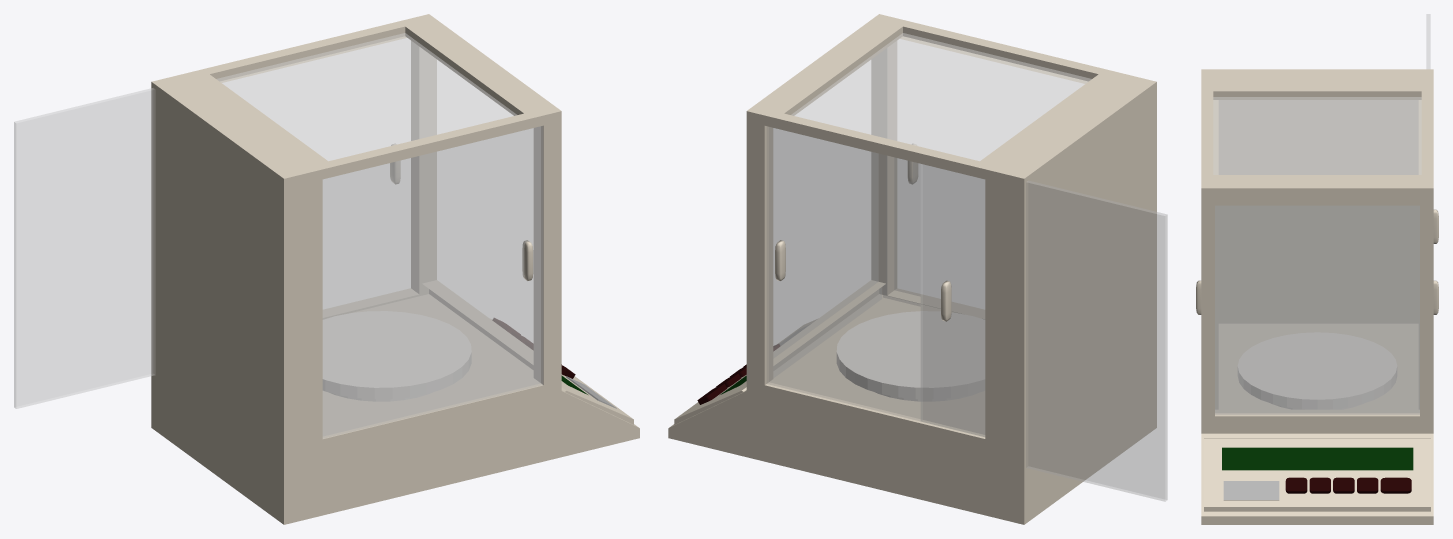
The model's file is balanceUpdated.gltf.
3 views of the same model, side by side, from view 1: azimuth 30°, elevation 25°; view 2: azimuth 150°, elevation 25°; view 3: azimuth 270°, elevation 25° (orthographic). The views are drawn at different scales.
Parts seen in each view (by area): view 1: balance, glassL, glassL.001, glassR.001, glassT.001, glassT.002, plate; view 2: balance, glassR.001, glassR, glassT.001, glassT.002, plate; view 3: balance, glassF.002, glassF.001, glassT.001, glassT.002, plate, screen, brand, button_tare, button_onoff, button_select, button_set (+1 smaller).
Part boxes in pixels (x1,y1,x2,y2): balance: [151, 14, 639, 524]; glassL: [323, 126, 542, 438]; glassL.001: [323, 126, 542, 437]; glassR.001: [14, 88, 155, 408]; glassT.001: [217, 33, 516, 160]; glassT.002: [217, 33, 515, 160]; plate: [323, 311, 471, 401]; balance: [668, 14, 1156, 524]; glassR.001: [921, 164, 1167, 501]; glassR: [767, 126, 984, 436]; glassT.001: [792, 33, 1091, 160]; glassT.002: [792, 33, 1090, 160]; plate: [836, 311, 984, 401]; balance: [1201, 69, 1433, 524]; glassF.002: [1215, 206, 1419, 414]; glassF.001: [1215, 206, 1419, 413]; glassT.001: [1213, 97, 1421, 174]; glassT.002: [1214, 97, 1420, 174]; plate: [1238, 332, 1396, 409]; screen: [1222, 447, 1413, 470]; brand: [1223, 481, 1279, 500]; button_tare: [1380, 477, 1411, 493]; button_onoff: [1285, 477, 1307, 493]; button_select: [1357, 477, 1378, 493]; button_set: [1309, 477, 1330, 493].
Bounding box in the file's own units: 6.12 × 4.09 × 2.97.
